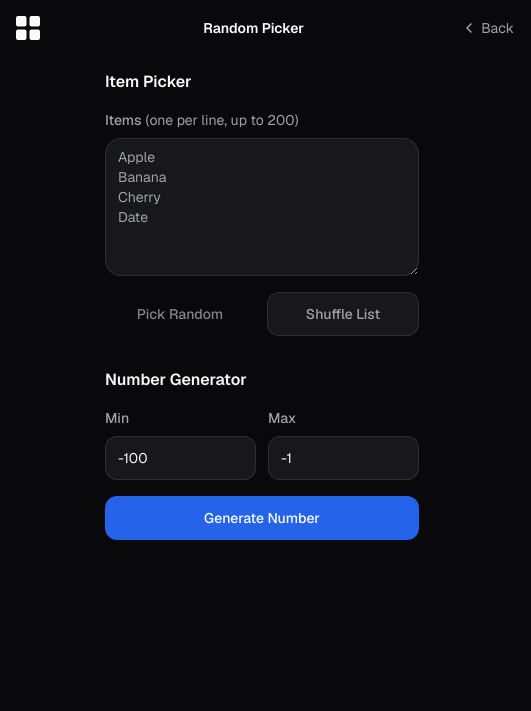
Test: RandomPickerTool › copy payload format › displays negative generated number correctly
Click the button with aria-label "generate a random number" at (262,518), box x1=105 y1=496 x2=419 y2=540
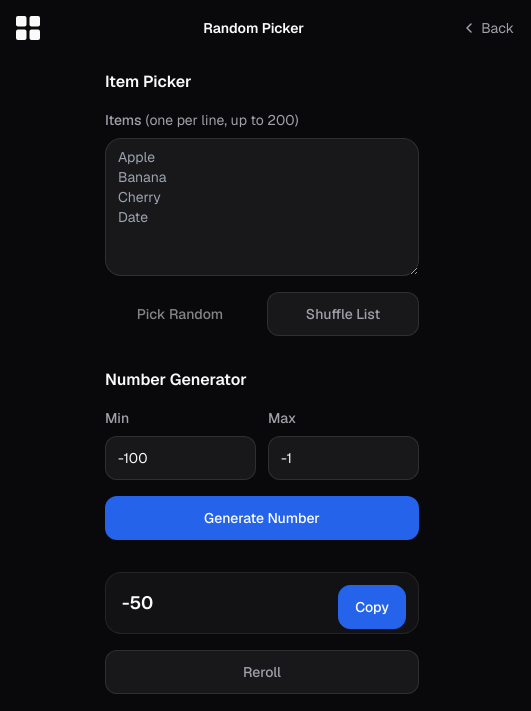
expect the text "-50" is shown: met, box x1=122 y1=591 x2=153 y2=614
